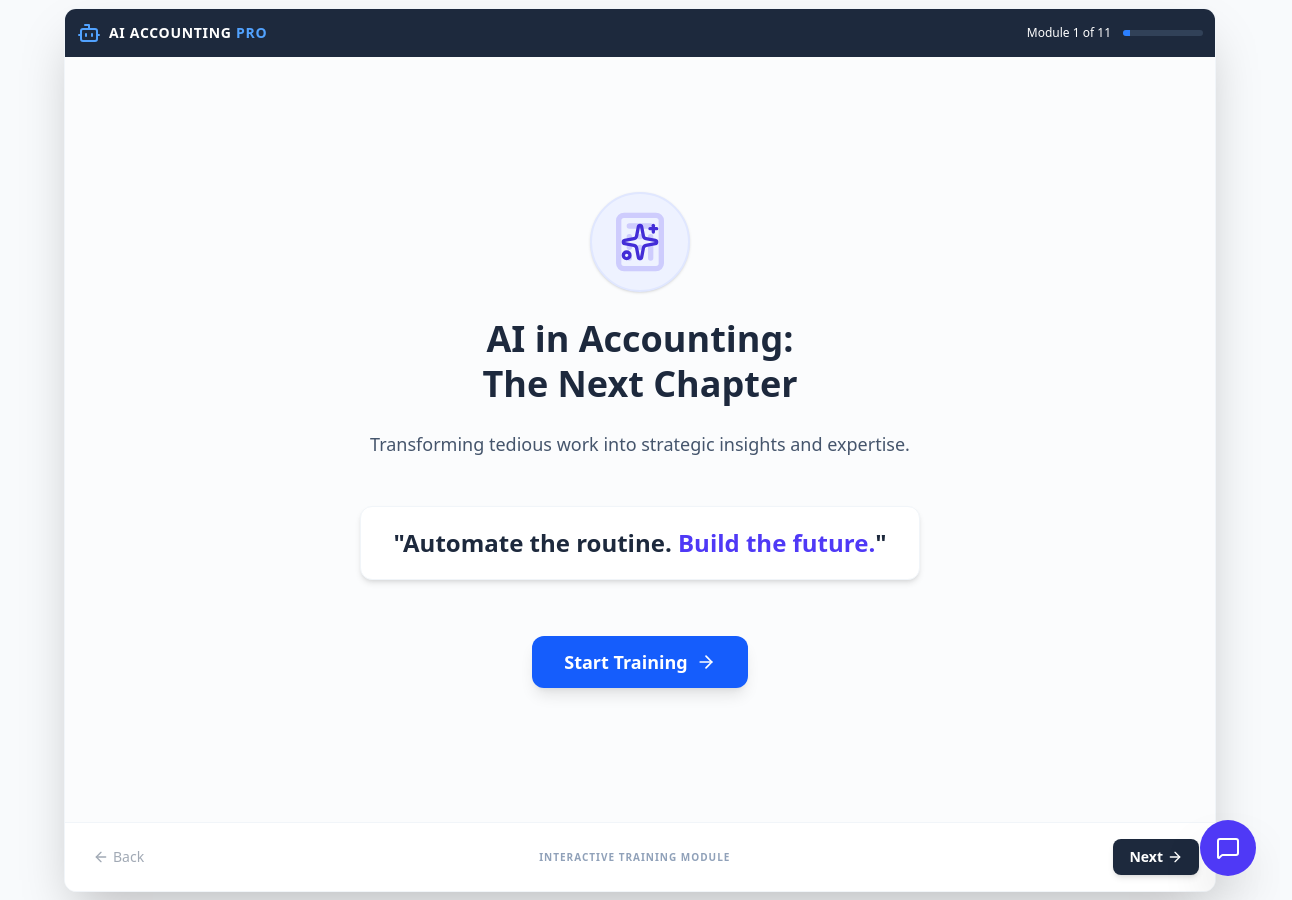
Test case: Chatbot Component › sends message when user types and clicks send
This screenshot has width=1292, height=900.
Click the button named "Toggle Chatbot": coordinates (1228, 848) [1200,820,1256,876]
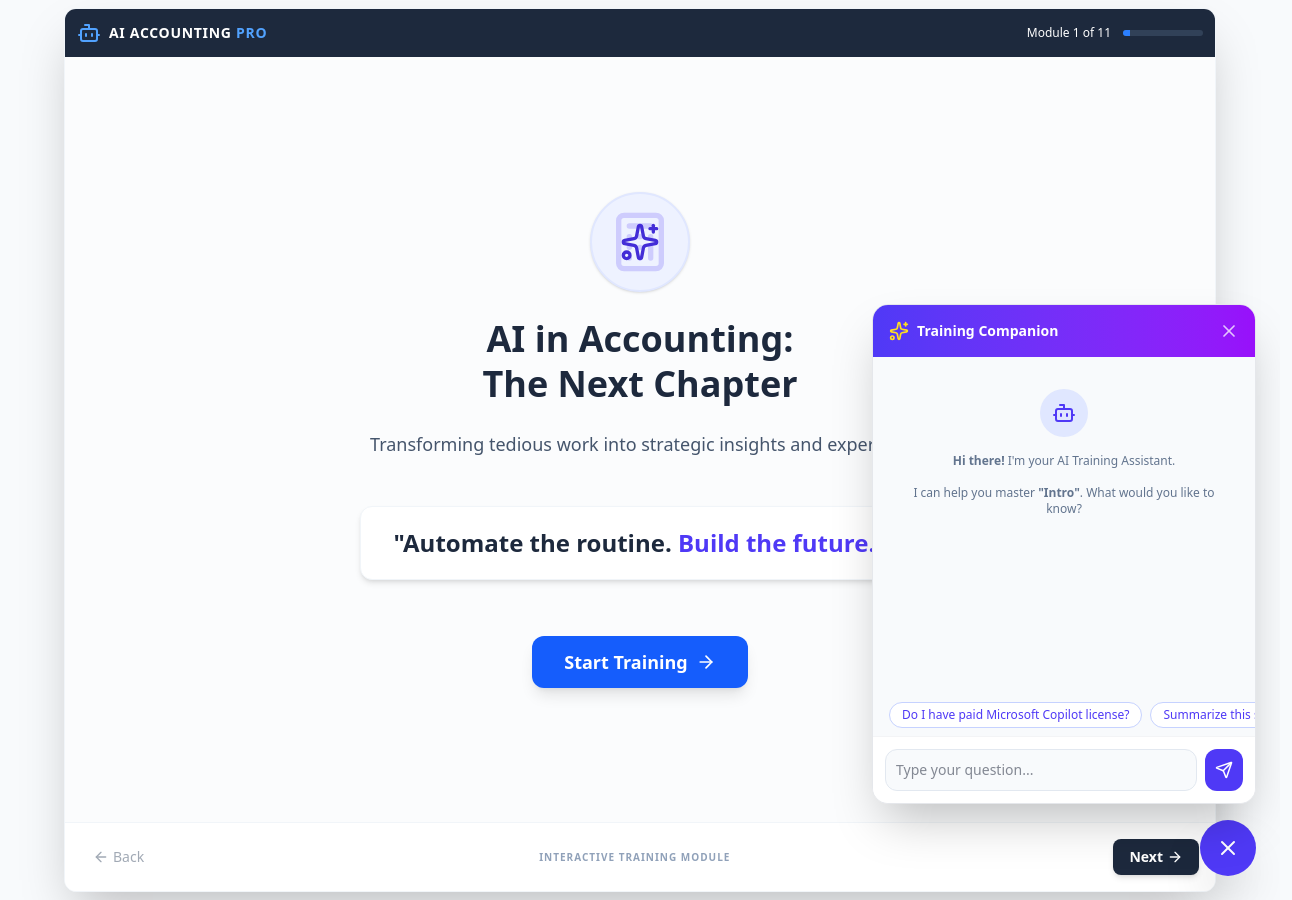
Expected: the field with placeholder "Type your question..." is shown
In the field with placeholder "Type your question...": coordinates (1041, 770) [885,749,1197,791], type "Hello"
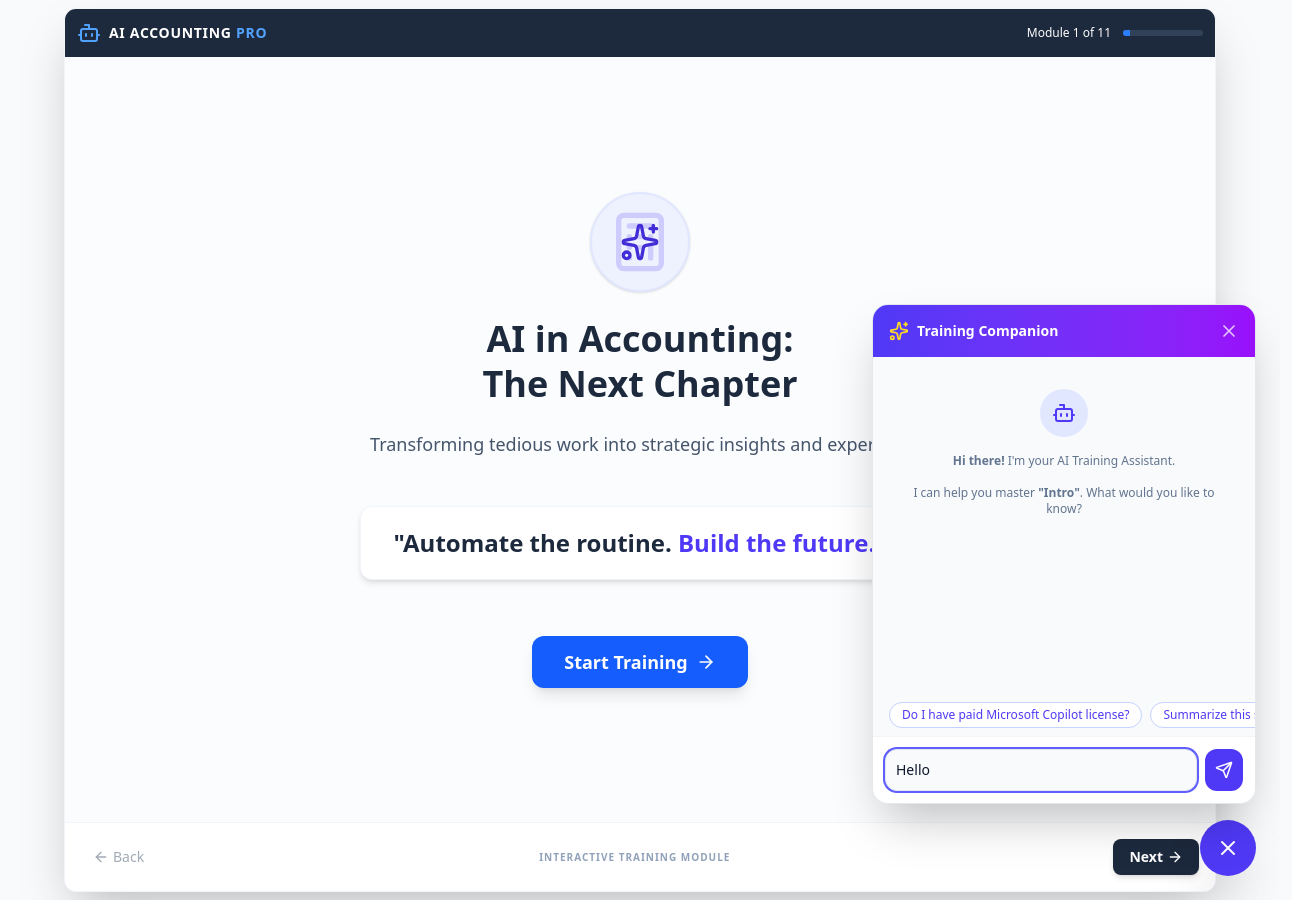
Click the 4th button: coordinates (1224, 770) [1205,749,1243,791]
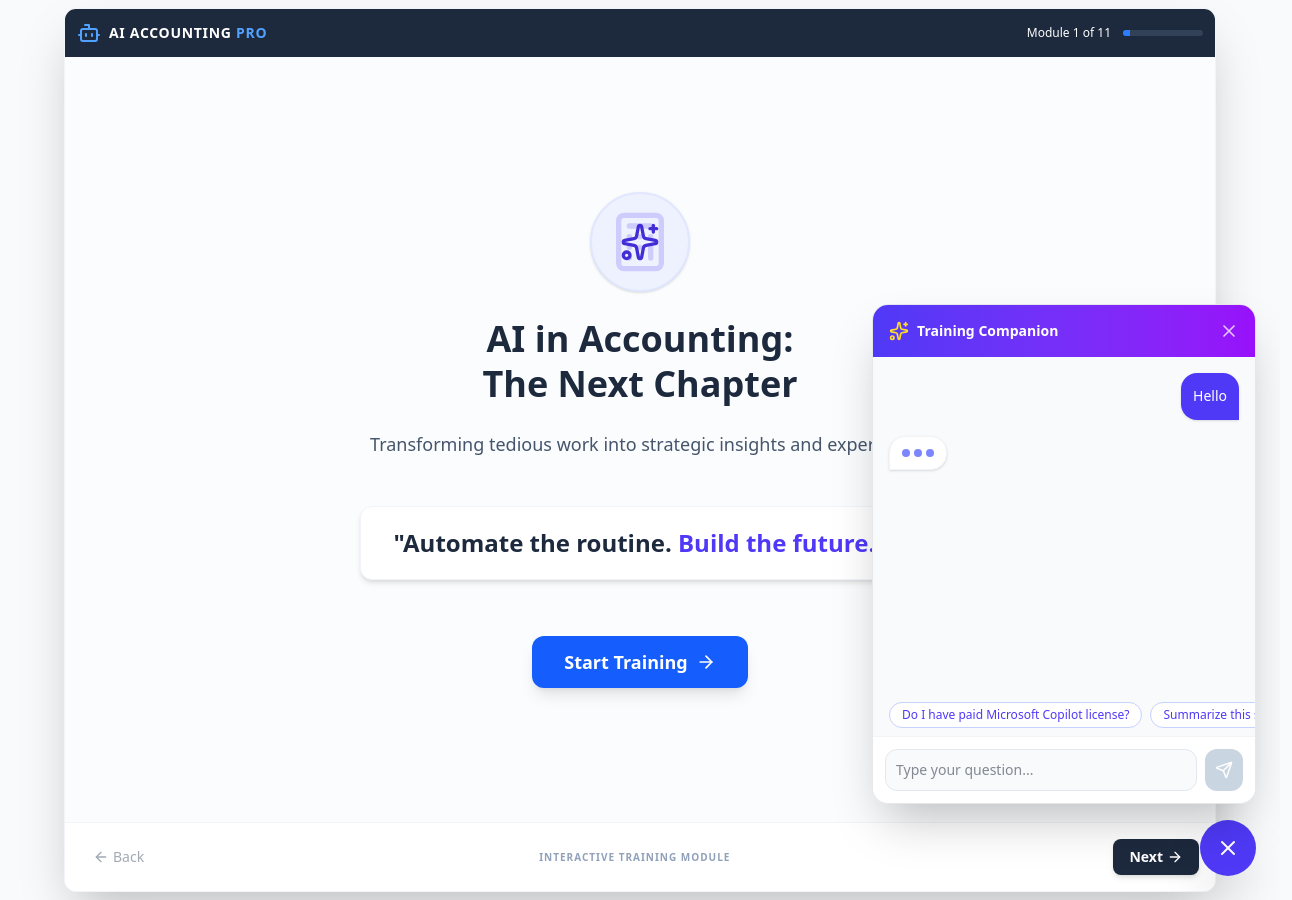
Expected: the text "Hello" is shown, [1193,385,1227,408]
